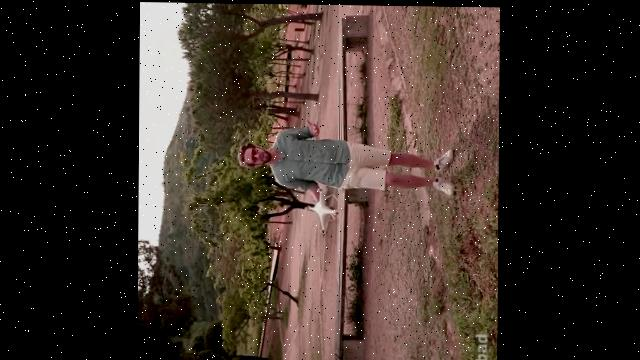drone: (304, 185, 340, 233)
